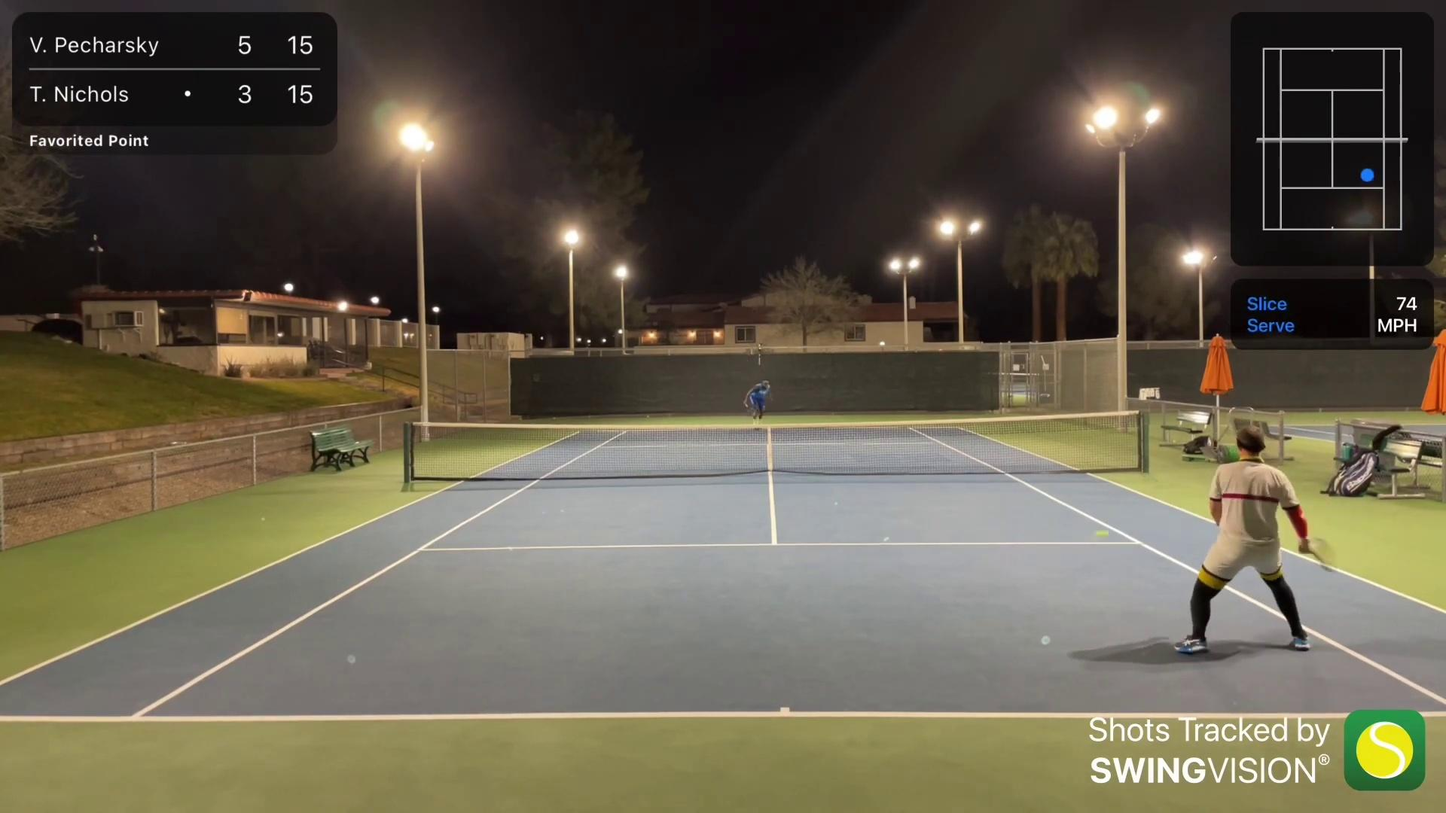ball: (1088, 525, 1111, 542)
